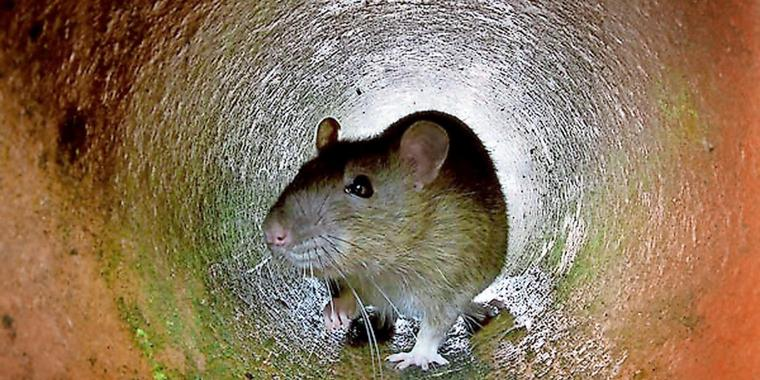rat: (243, 109, 520, 372)
